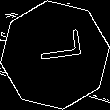L_W: (28, 36, 82, 74)
